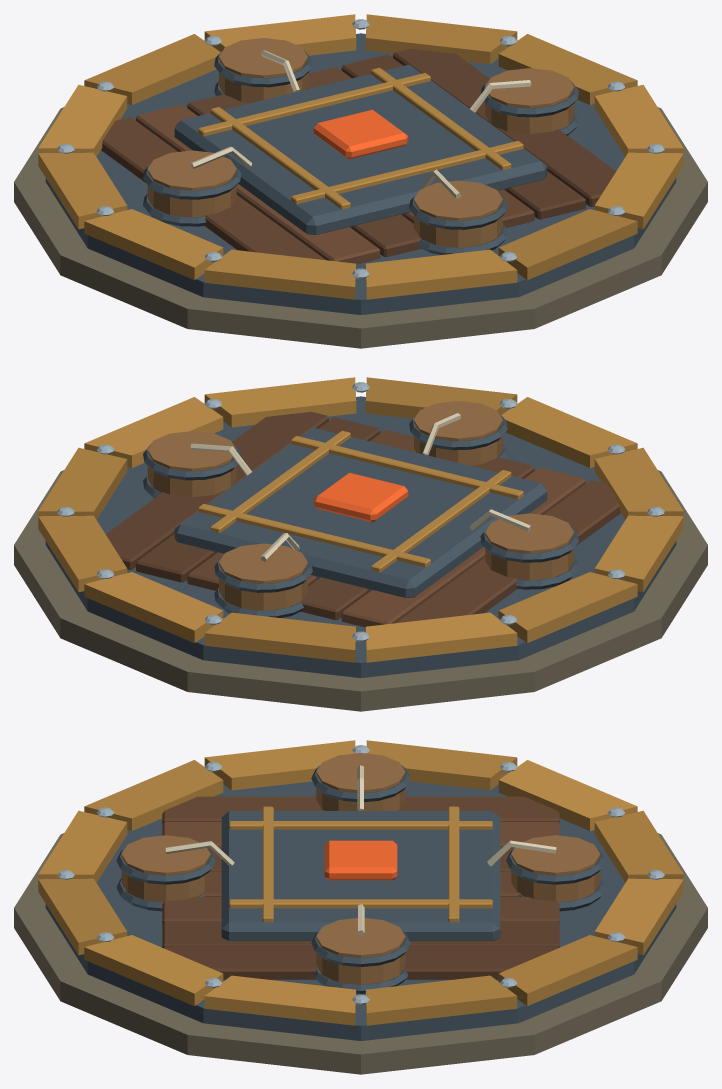
Rendered from trap__explosiva__L05.glb.
3 views of the same model, one above another, from view 1: azimuth 30°, elevation 25°; view 2: azimuth 150°, elevation 25°; view 3: azimuth 270°, elevation 25° (orthographic).
Parts seen in each view (by area): view 1: structure, weapon; view 2: structure, weapon; view 3: structure, weapon.
Boxes of the visible parts, x1=… form: structure: x1=14, y1=14, x2=707, y2=348; weapon: x1=143, y1=38, x2=578, y2=254; structure: x1=14, y1=377, x2=707, y2=711; weapon: x1=143, y1=401, x2=578, y2=617; structure: x1=14, y1=740, x2=707, y2=1074; weapon: x1=116, y1=753, x2=605, y2=993.
Bounding box in the file's own units: 0.8228 × 0.1139 × 0.8228.
